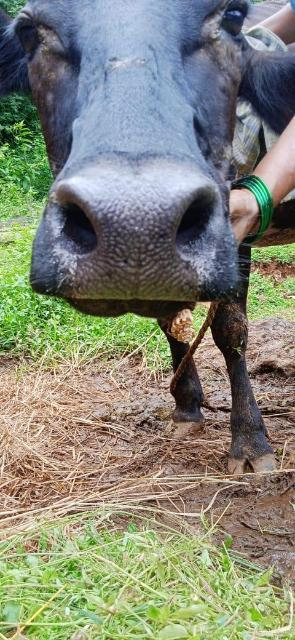Muzzle: (62, 176, 206, 300)
